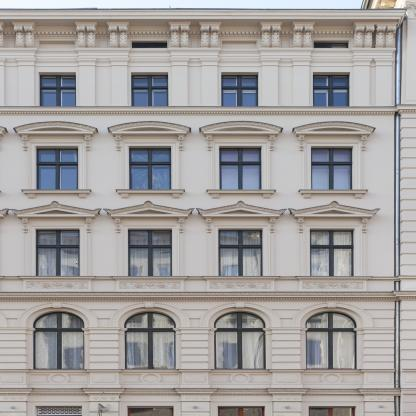Building Outline: (1, 8, 416, 415)
Cornice: (102, 200, 195, 233), (195, 200, 288, 233), (287, 201, 382, 233), (8, 201, 102, 233), (12, 121, 99, 151), (197, 121, 283, 151), (106, 121, 192, 151), (291, 121, 376, 151), (291, 301, 373, 327), (16, 301, 98, 327), (109, 301, 191, 327), (199, 301, 281, 327)
Deco: (11, 22, 35, 48), (74, 22, 98, 48), (106, 22, 130, 48), (168, 22, 192, 48), (198, 22, 222, 48), (260, 22, 284, 48), (292, 22, 316, 48), (352, 22, 376, 48), (376, 22, 398, 48), (0, 22, 5, 48)
Facade: (1, 8, 416, 415)
Floor: (0, 299, 415, 388), (0, 128, 415, 207), (0, 215, 415, 293), (0, 63, 415, 121), (0, 395, 415, 416)
Floor Slab: (1, 56, 416, 63), (1, 388, 416, 395), (1, 293, 416, 300), (1, 208, 416, 215), (1, 121, 416, 128)
Molding: (0, 290, 416, 302), (0, 104, 416, 116), (0, 48, 396, 58), (0, 388, 401, 396), (4, 32, 354, 39)
Pillar: (364, 327, 394, 369), (89, 327, 119, 369), (181, 327, 209, 369), (272, 327, 300, 369), (0, 327, 26, 369), (373, 58, 395, 106), (168, 58, 190, 106), (108, 58, 130, 106), (76, 58, 98, 106), (259, 58, 281, 106), (351, 58, 373, 106), (15, 58, 37, 106), (199, 58, 220, 106), (291, 58, 312, 106), (364, 396, 395, 416), (89, 395, 118, 416), (0, 395, 27, 416), (181, 396, 209, 416), (272, 396, 300, 416), (0, 58, 6, 106)
Sill: (205, 189, 277, 199), (114, 189, 186, 199), (20, 189, 92, 199), (298, 189, 369, 199)
Top Floor: (1, 9, 416, 56)
Window: (33, 310, 85, 369), (306, 310, 358, 369), (124, 310, 176, 369), (214, 310, 266, 369), (311, 229, 355, 276), (36, 229, 80, 276), (129, 229, 173, 276), (219, 229, 263, 276), (311, 146, 353, 189), (36, 146, 78, 189), (129, 146, 171, 189), (219, 146, 261, 189), (313, 72, 351, 106), (38, 72, 76, 106), (132, 72, 169, 106), (222, 72, 259, 106), (309, 406, 355, 416), (36, 406, 82, 416), (128, 406, 174, 416), (219, 406, 265, 416), (38, 41, 75, 48), (221, 41, 258, 48), (314, 41, 350, 48), (131, 41, 167, 48)
